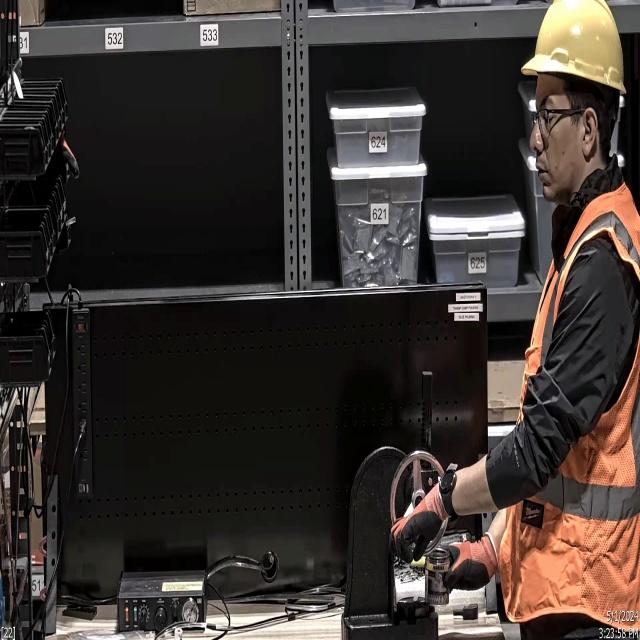construction-gloves: (390, 473, 458, 564), (421, 532, 499, 610)
